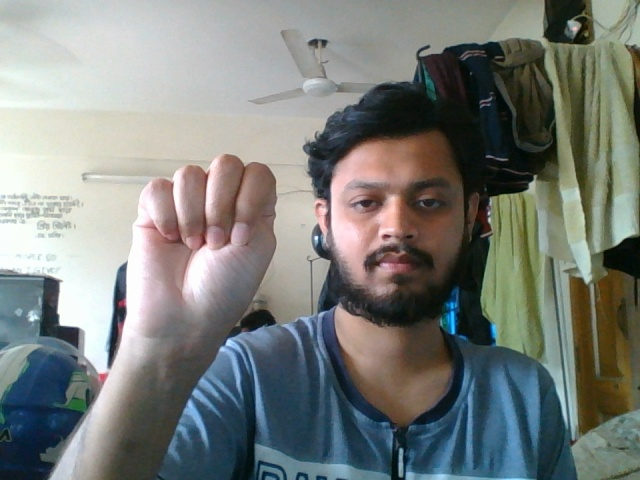to: (119, 150, 290, 365)
